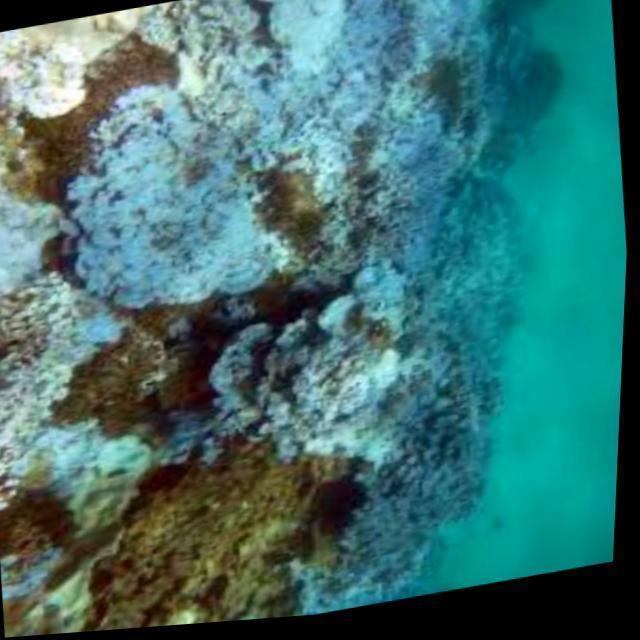Dead Coral: (200, 296, 438, 502)
